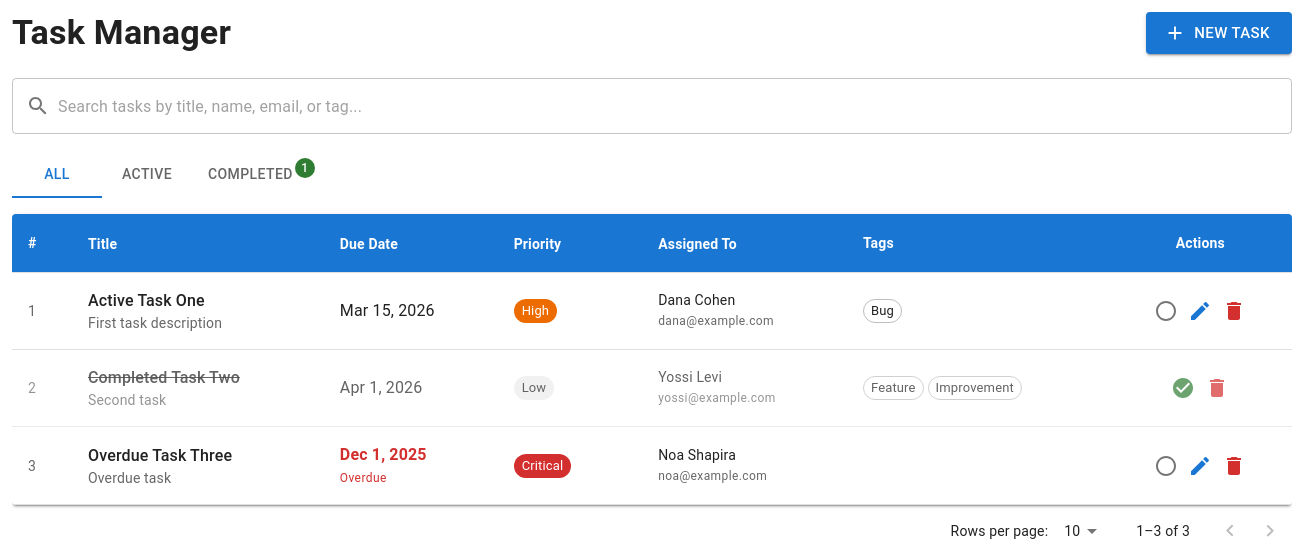
Test case: TaskList › filters to only completed tasks when Completed tab is clicked
This screenshot has width=1304, height=556.
Expected: the text "Active Task One" is shown, [88,290,205,310]
Click the tab "Completed 1". click: (254, 174)
box: [192,150,317,198]
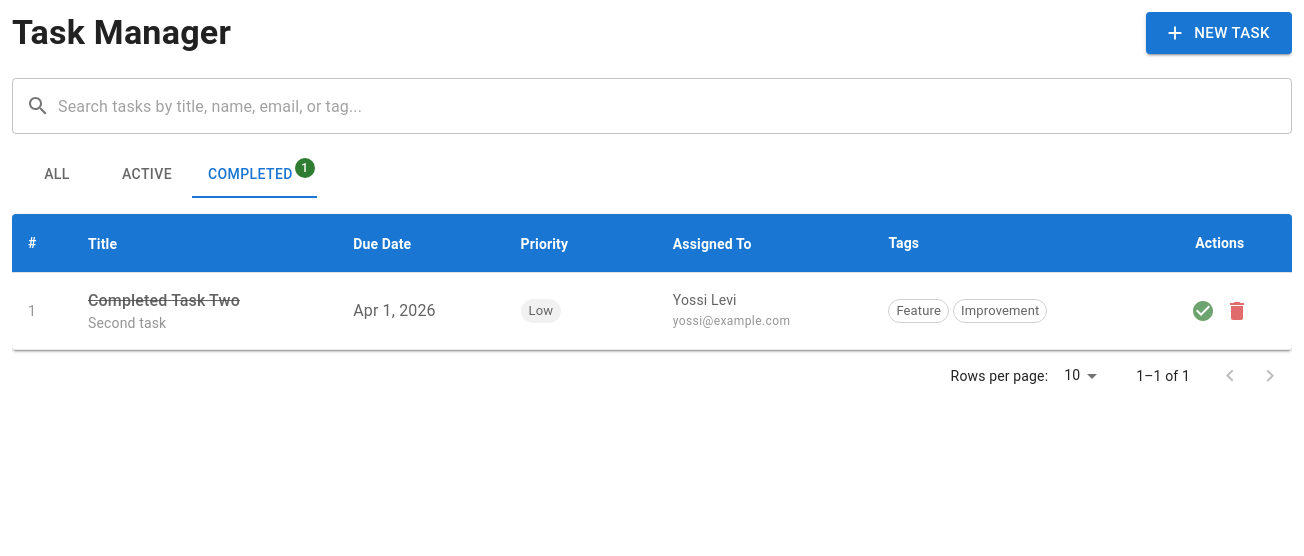
Expected: the text "Completed Task Two" is shown, [88,290,240,310]
Result: the text "Active Task One" is gone
Result: the text "Overdue Task Three" is gone
